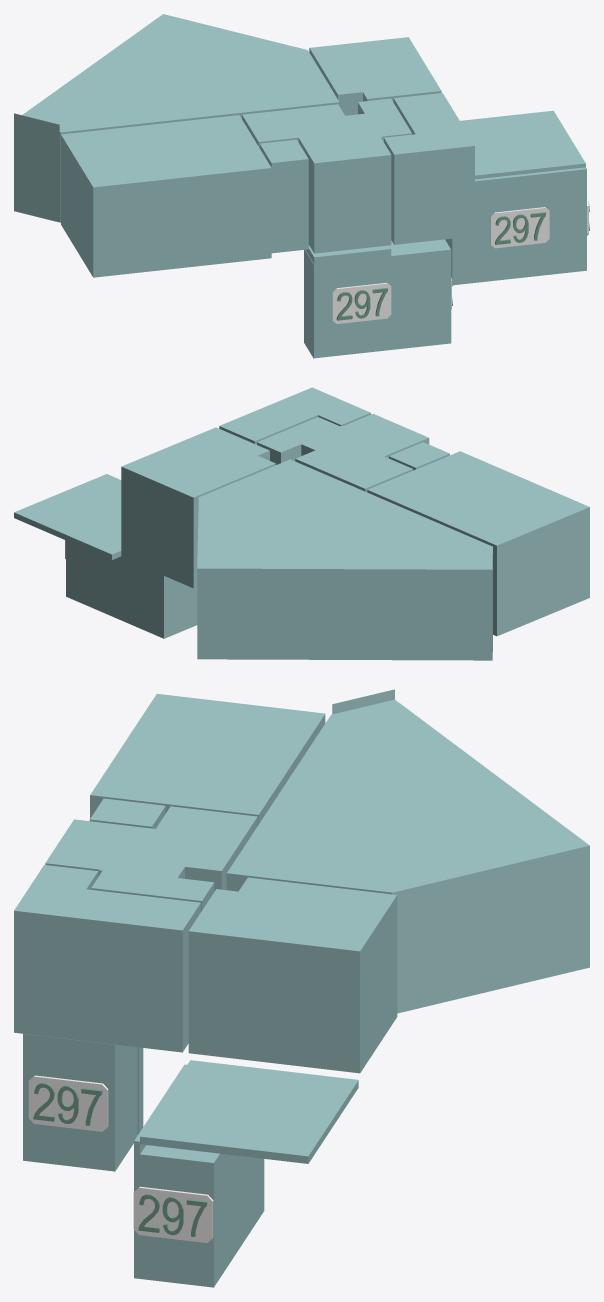
The picture shows the model from 3 angles, top to bottom: view 1: azimuth 30°, elevation 25°; view 2: azimuth 150°, elevation 25°; view 3: azimuth 270°, elevation 25°; orthographic projection. The views are drawn at different scales.
Visible parts, largest first — view 1: g_3, g_2, g_6, g_1, g_8, g_9, g_7, g_10, g_4, g_0, g_5, g_14 (+1 smaller); view 2: g_2, g_3, g_7, g_1, g_4, g_10, g_6, g_8, g_5; view 3: g_2, g_7, g_6, g_3, g_10, g_1, g_4, g_0, g_26, g_22, g_8, g_5.
Part boxes in pixels (x1=…): g_3: x1=61, y1=115, x2=271, y2=277; g_2: x1=14, y1=14, x2=339, y2=222; g_6: x1=384, y1=93, x2=474, y2=244; g_1: x1=445, y1=167, x2=586, y2=285; g_8: x1=303, y1=138, x2=391, y2=253; g_9: x1=304, y1=240, x2=409, y2=358; g_7: x1=309, y1=37, x2=441, y2=115; g_10: x1=460, y1=110, x2=585, y2=179; g_4: x1=242, y1=98, x2=411, y2=149; g_0: x1=403, y1=239, x2=451, y2=347; g_5: x1=259, y1=139, x2=308, y2=253; g_14: x1=490, y1=207, x2=549, y2=248; g_2: x1=197, y1=459, x2=492, y2=660; g_3: x1=367, y1=451, x2=589, y2=636; g_7: x1=121, y1=427, x2=275, y2=588; g_1: x1=66, y1=540, x2=197, y2=638; g_4: x1=257, y1=417, x2=413, y2=492; g_10: x1=14, y1=474, x2=121, y2=559; g_6: x1=219, y1=387, x2=370, y2=444; g_8: x1=343, y1=413, x2=429, y2=452; g_5: x1=389, y1=442, x2=449, y2=470; g_2: x1=226, y1=689, x2=589, y2=1013; g_7: x1=188, y1=877, x2=397, y2=1073; g_6: x1=14, y1=865, x2=200, y2=1052; g_3: x1=90, y1=693, x2=325, y2=825; g_10: x1=140, y1=1060, x2=358, y2=1163; g_1: x1=134, y1=1064, x2=264, y2=1287; g_4: x1=91, y1=806, x2=257, y2=911; g_0: x1=23, y1=1034, x2=137, y2=1171; g_26: x1=133, y1=1186, x2=213, y2=1242; g_22: x1=28, y1=1075, x2=108, y2=1131; g_8: x1=45, y1=819, x2=131, y2=876; g_5: x1=89, y1=798, x2=165, y2=828.
Bounding box in the file's own units: 14.37 × 5.4 × 10.27.
